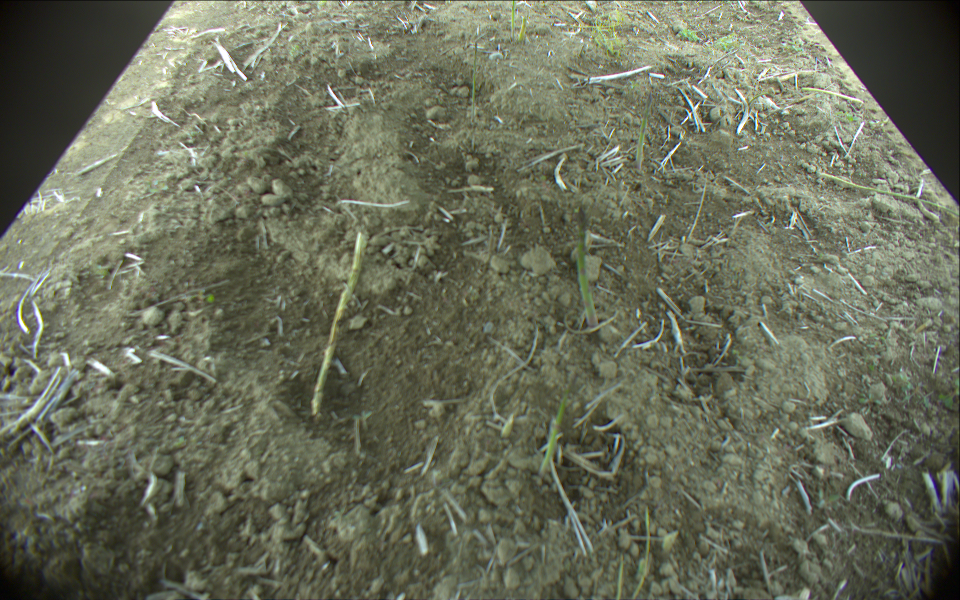aspa: (809, 164, 958, 218), (539, 374, 580, 476), (575, 208, 599, 332), (633, 85, 655, 171), (800, 84, 865, 106), (471, 40, 478, 117), (517, 15, 529, 40), (510, 1, 517, 39)
